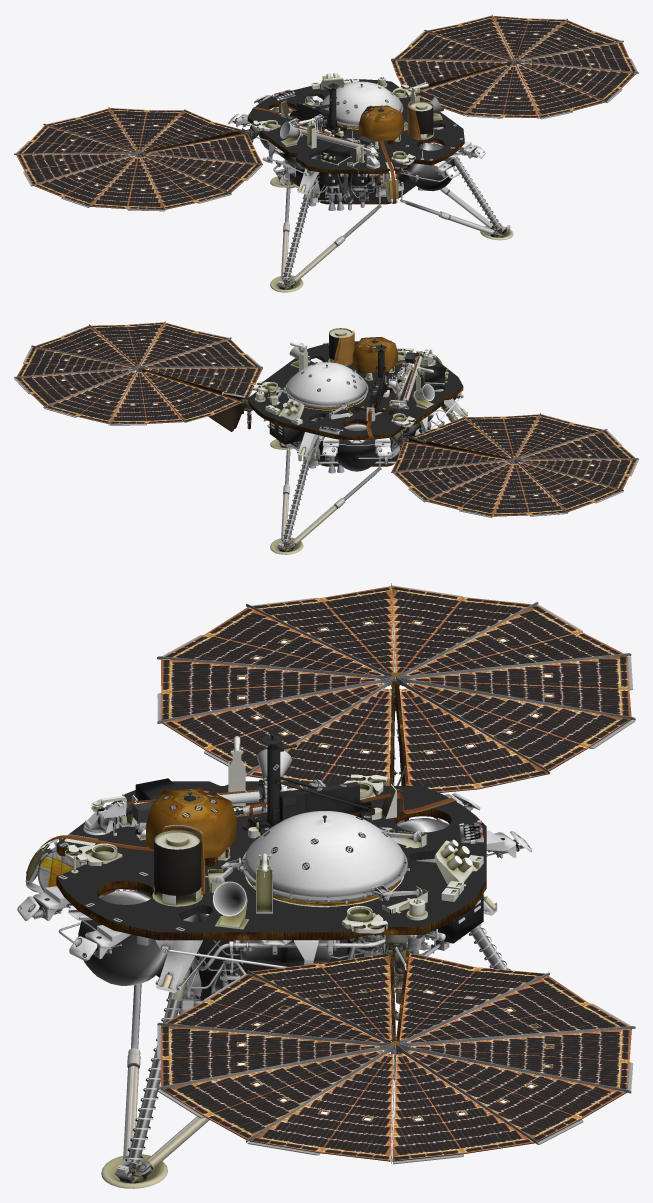
File: InSight Cruise Lander (panels deployed).glb
3 views of the same model, one above another, from view 1: azimuth 30°, elevation 25°; view 2: azimuth 150°, elevation 25°; view 3: azimuth 270°, elevation 25° (orthographic). The views are drawn at different scales.
Parts seen in each view (by area): view 1: deck, leg_l, WTS, leg_r, SEIS, Cube.056, Cube.095, Cube.051, Cube.055, Cube.079, Cube.001, Cube.050 (+38 smaller); view 2: deck, WTS, leg_b, SEIS, Cube.047, Cube.083, Cube.081, Cube.078, Cube.064, Cube.085, Cube.049, Cube.061 (+39 smaller); view 3: deck, WTS, leg_r, Cube.089, Cube.091, Cube.060, Cube.059, Cube.087, HP3_v3d_baked, Cube.057, SEIS, Cube.086 (+43 smaller).
Boxes of the visible parts, bbox=[...] form: deck: bbox=[228, 73, 485, 210]; leg_l: bbox=[270, 177, 380, 292]; WTS: bbox=[311, 81, 403, 128]; leg_r: bbox=[401, 145, 513, 240]; SEIS: bbox=[358, 105, 403, 144]; Cube.056: bbox=[143, 156, 230, 203]; Cube.095: bbox=[465, 65, 513, 118]; Cube.051: bbox=[127, 157, 164, 211]; Cube.055: bbox=[146, 154, 262, 180]; Cube.079: bbox=[391, 60, 504, 77]; Cube.001: bbox=[33, 156, 133, 196]; Cube.050: bbox=[90, 157, 137, 208]; deck: bbox=[244, 340, 468, 473]; WTS: bbox=[275, 362, 368, 409]; leg_b: bbox=[270, 439, 381, 554]; SEIS: bbox=[352, 337, 397, 375]; Cube.047: bbox=[520, 462, 623, 503]; Cube.083: bbox=[44, 371, 134, 417]; Cube.081: bbox=[109, 372, 147, 425]; Cube.078: bbox=[144, 372, 241, 414]; Cube.064: bbox=[516, 463, 567, 516]; Cube.085: bbox=[14, 369, 131, 394]; Cube.049: bbox=[522, 459, 638, 476]; Cube.061: bbox=[426, 463, 510, 509]; deck: bbox=[17, 774, 532, 1014]; WTS: bbox=[221, 811, 409, 903]; leg_r: bbox=[101, 958, 209, 1188]; Cube.089: bbox=[247, 1053, 390, 1155]; Cube.091: bbox=[158, 1050, 382, 1118]; Cube.060: bbox=[408, 683, 634, 748]; Cube.059: bbox=[404, 688, 549, 788]; Cube.087: bbox=[392, 1054, 464, 1164]; HP3_v3d_baked: bbox=[242, 733, 374, 840]; Cube.057: bbox=[161, 683, 382, 750]; SEIS: bbox=[146, 788, 236, 866]; Cube.086: bbox=[400, 1053, 534, 1153].
Size of the model in its own units: 6.14 by 1.58 by 2.77.
11 materials, 11 textured.
